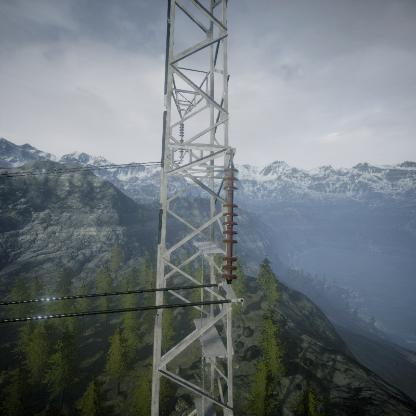insulator: (219, 162, 242, 284)
